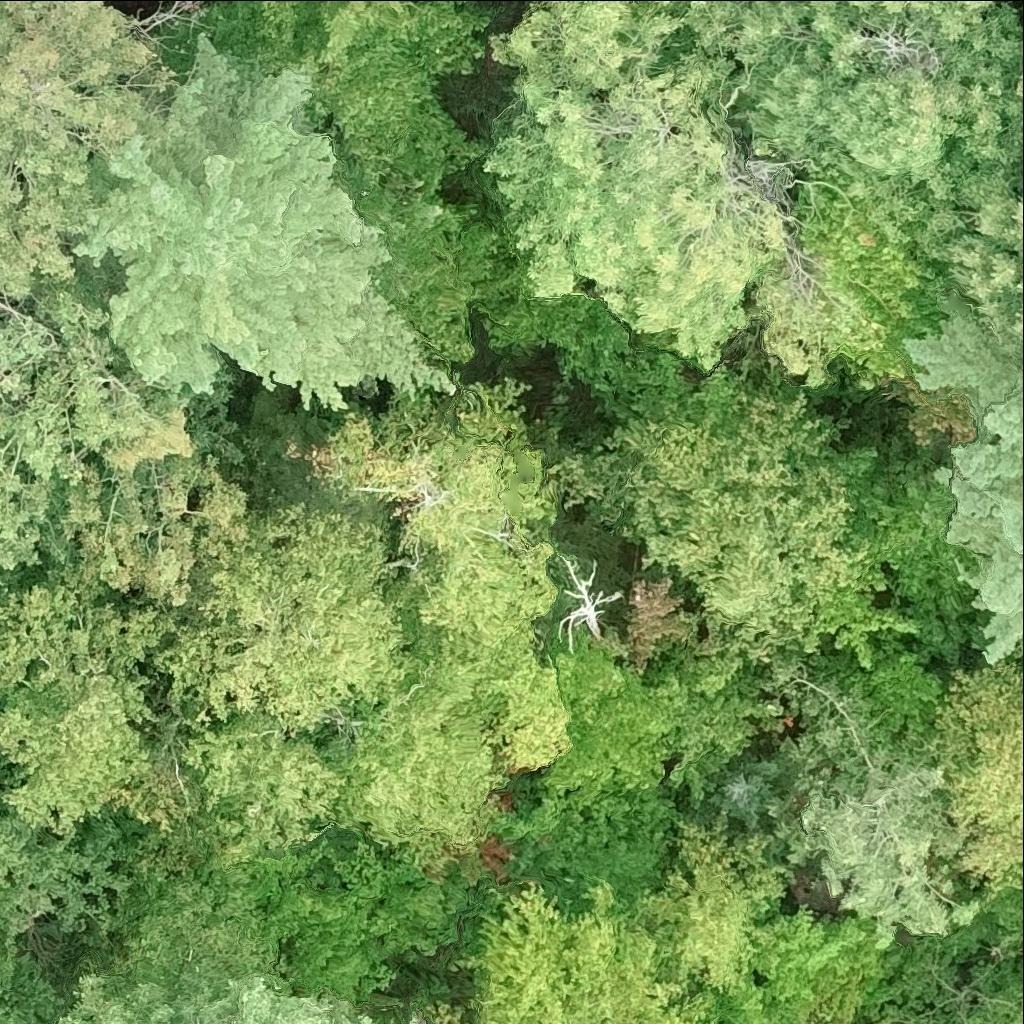crown: (482, 0, 868, 385), (76, 35, 453, 411), (207, 0, 505, 370), (552, 375, 884, 648), (684, 0, 1023, 239), (0, 292, 247, 605), (316, 384, 556, 648), (769, 670, 980, 951), (156, 503, 410, 734), (0, 534, 182, 835), (0, 0, 179, 297), (535, 633, 771, 810), (904, 314, 1023, 662), (264, 842, 473, 1010), (472, 878, 714, 1023), (330, 665, 505, 850), (180, 699, 354, 862), (482, 288, 689, 418), (638, 819, 791, 983), (673, 911, 897, 1023), (917, 127, 1023, 354), (424, 628, 571, 778), (926, 661, 1023, 886), (128, 875, 283, 1000), (54, 973, 426, 1023), (556, 557, 622, 651), (711, 761, 786, 827), (325, 0, 404, 31), (954, 994, 1021, 1023), (0, 560, 29, 607), (64, 0, 106, 16), (1004, 989, 1023, 1023), (0, 1003, 26, 1023), (0, 951, 11, 979), (1016, 70, 1023, 97), (7, 0, 32, 7)
